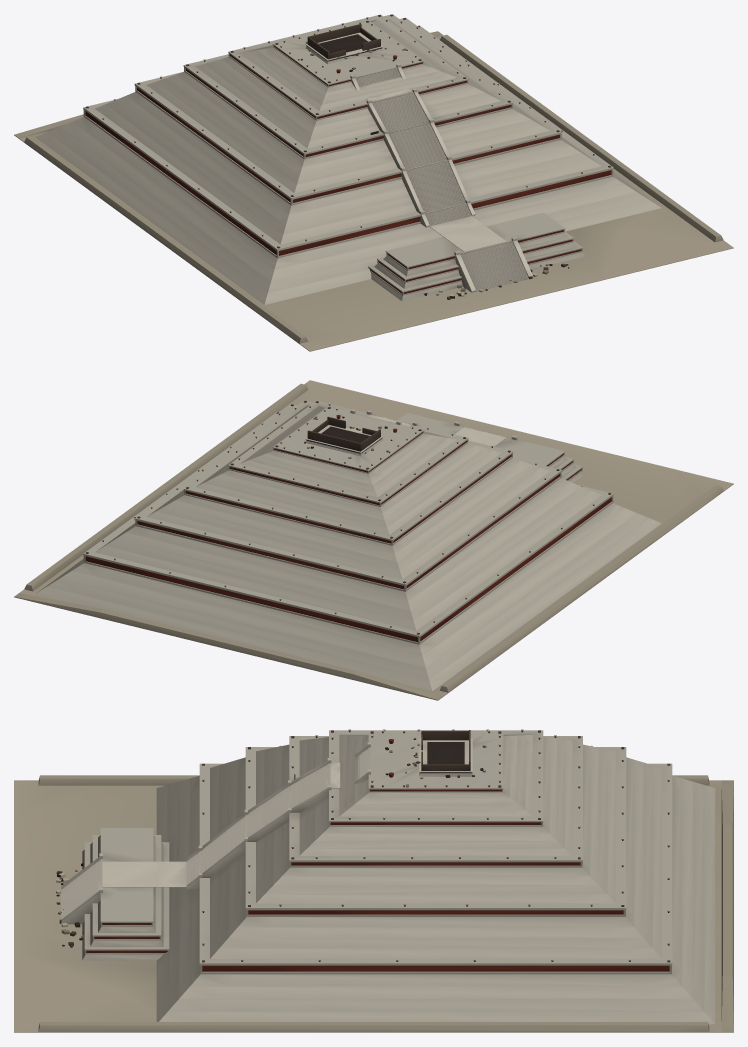
File: pyramid-of-the-sun-650.glb
3 views of the same model, one above another, from view 1: azimuth 30°, elevation 25°; view 2: azimuth 150°, elevation 25°; view 3: azimuth 270°, elevation 25° (orthographic). The views are drawn at different scales.
Parts seen in each view (by area): view 1: p1_pyramid, p0_ground, p2_temple; view 2: p1_pyramid, p0_ground, p2_temple; view 3: p1_pyramid, p0_ground, p2_temple.
Boxes of the visible parts, x1=… form: p1_pyramid: x1=35, y1=14, x2=661, y2=304; p0_ground: x1=14, y1=31, x2=733, y2=351; p2_temple: x1=85, y1=14, x2=611, y2=299; p1_pyramid: x1=35, y1=400, x2=661, y2=691; p0_ground: x1=14, y1=380, x2=733, y2=700; p2_temple: x1=85, y1=400, x2=611, y2=634; p1_pyramid: x1=82, y1=730, x2=715, y2=1024; p0_ground: x1=14, y1=775, x2=733, y2=1032; p2_temple: x1=56, y1=729, x2=670, y2=962.
Size of the model in its own units: 240 by 71.55 by 290.
